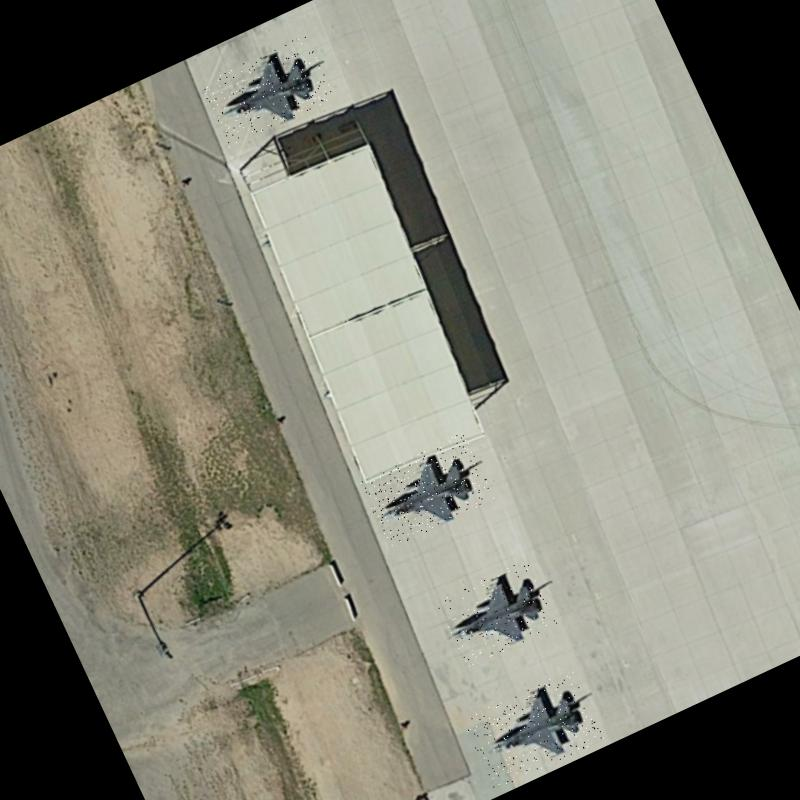A5: (462, 668, 604, 790), (358, 431, 496, 548), (199, 34, 336, 148), (435, 558, 559, 670)
